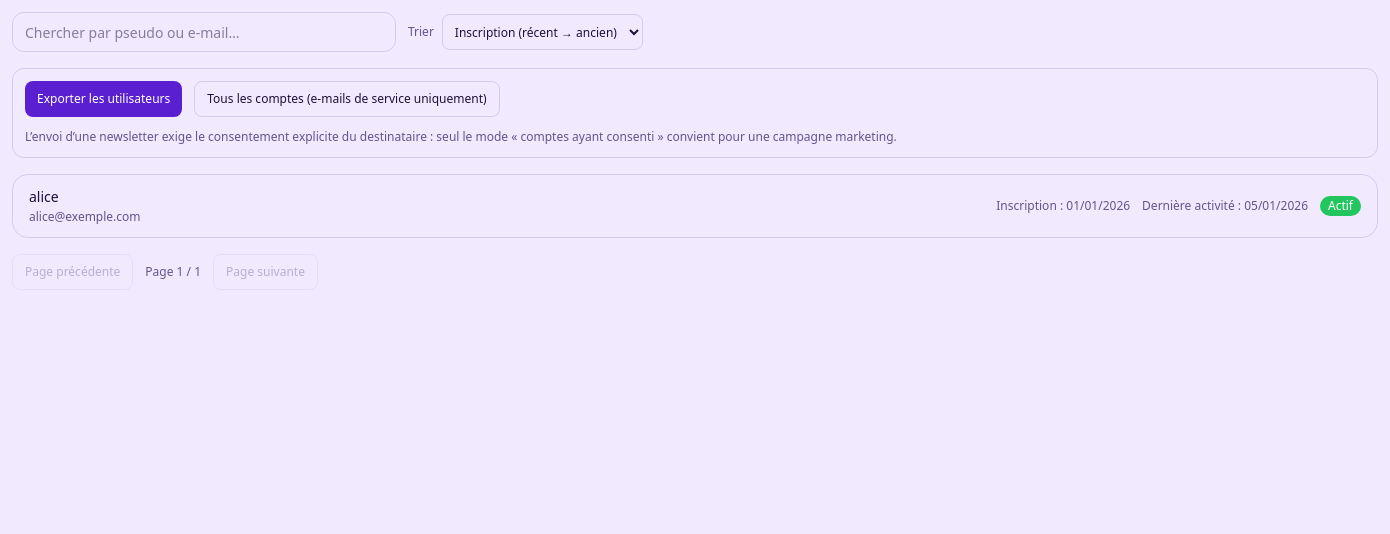
AdminUsersPanel — visionneuse et modération (lot I3, §1-2-4) › demande une confirmation avant de suspendre un compte
This screenshot has width=1390, height=534.
Click the text "alice". click: [44, 196]
box: [29,187,59,206]
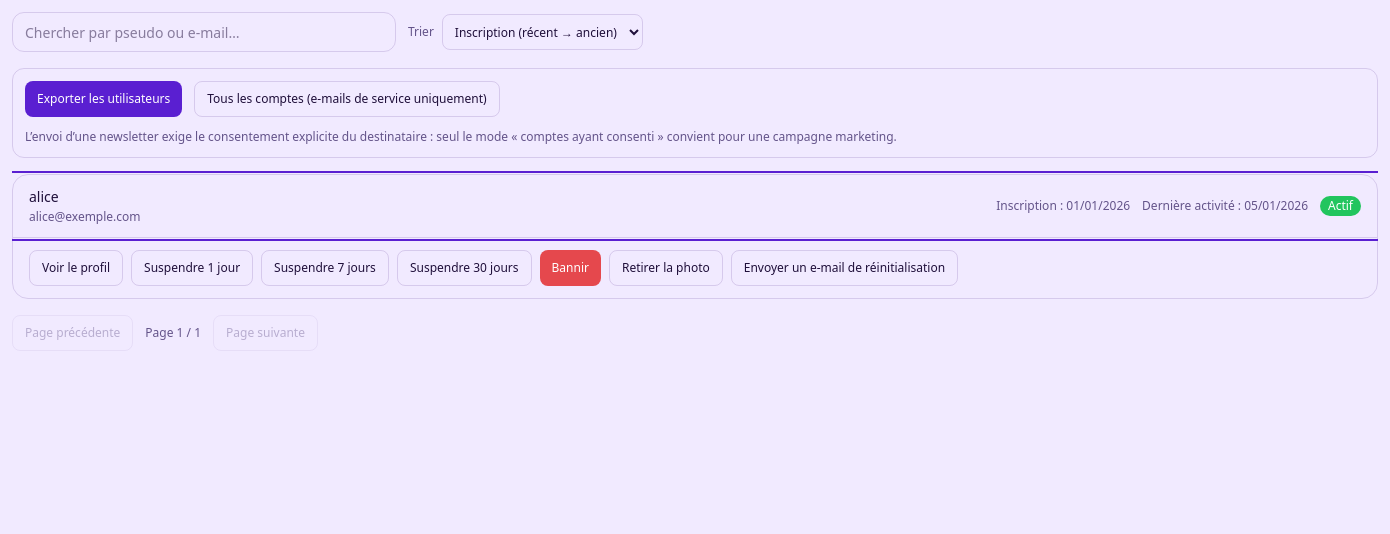
Click the button "Suspendre 1 jour". click: [192, 268]
box: [131,250,253,286]
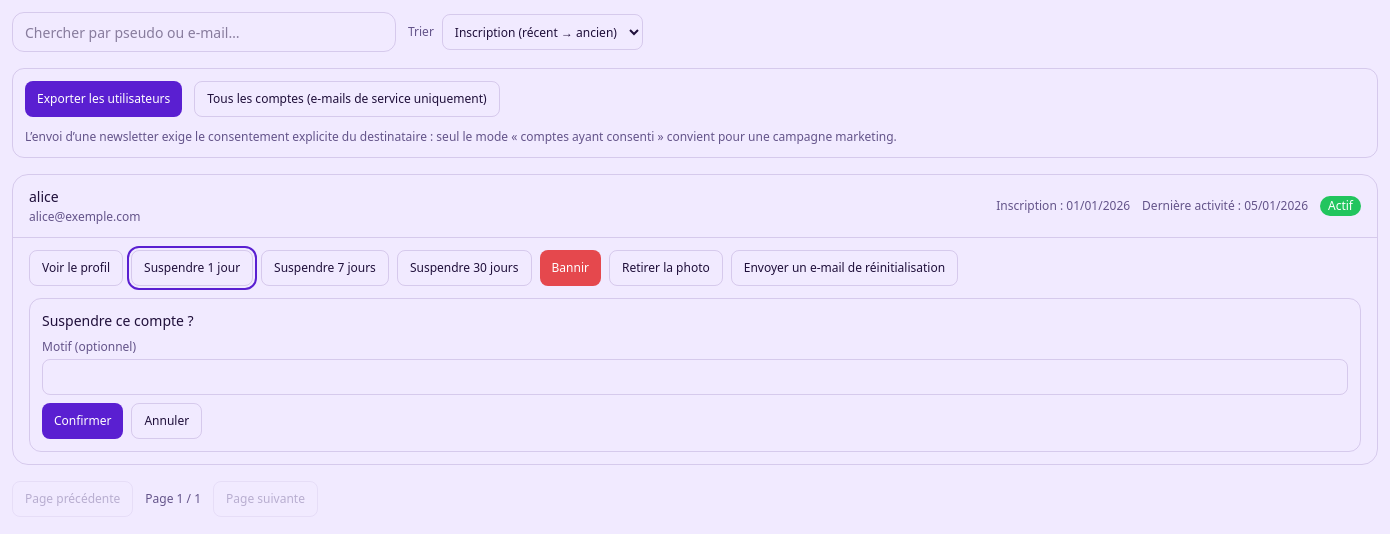
Result: the text "Suspendre ce compte ?" is shown at [42,311,194,330]
